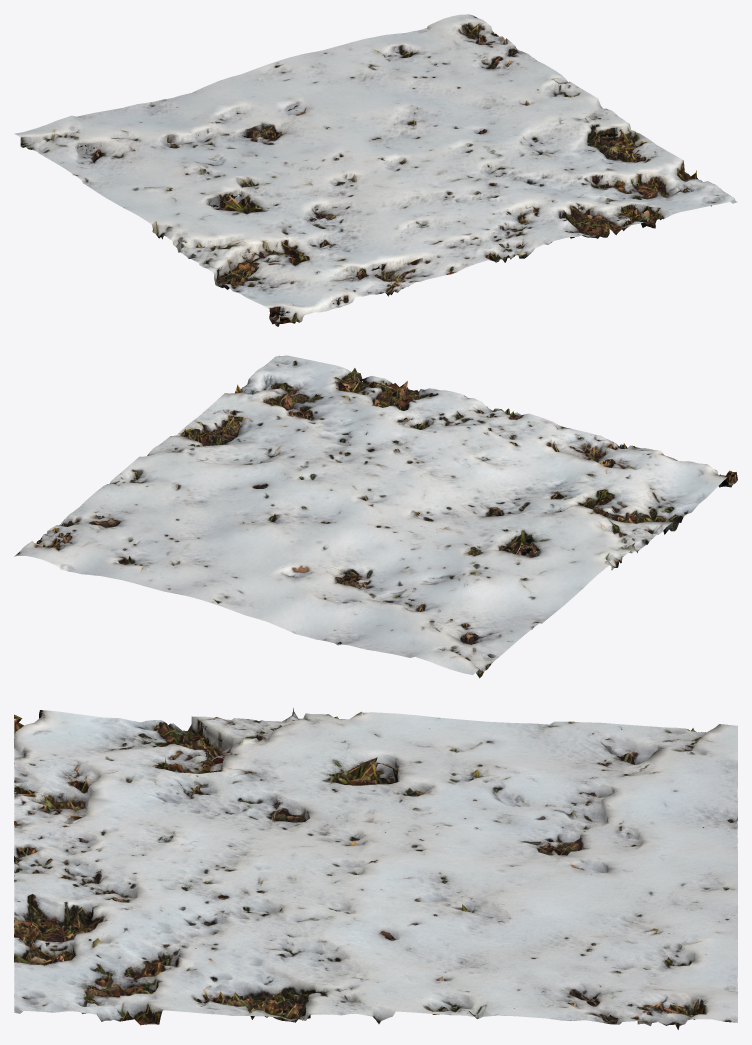
File: patch_of_old_snow.glb
The picture shows the model from 3 angles, top to bottom: view 1: azimuth 30°, elevation 25°; view 2: azimuth 150°, elevation 25°; view 3: azimuth 270°, elevation 25°; orthographic projection. The views are drawn at different scales.
Parts seen in each view (by area): view 1: Object_3; view 2: Object_3; view 3: Object_3.
Part boxes in pixels (left/top/right/bottom): Object_3: left=14, top=14, right=737, bottom=326; Object_3: left=14, top=355, right=737, bottom=678; Object_3: left=14, top=708, right=737, bottom=1029.
Bounding box in the file's own units: 1 × 0.0639 × 1.
1 material, 1 textured.
